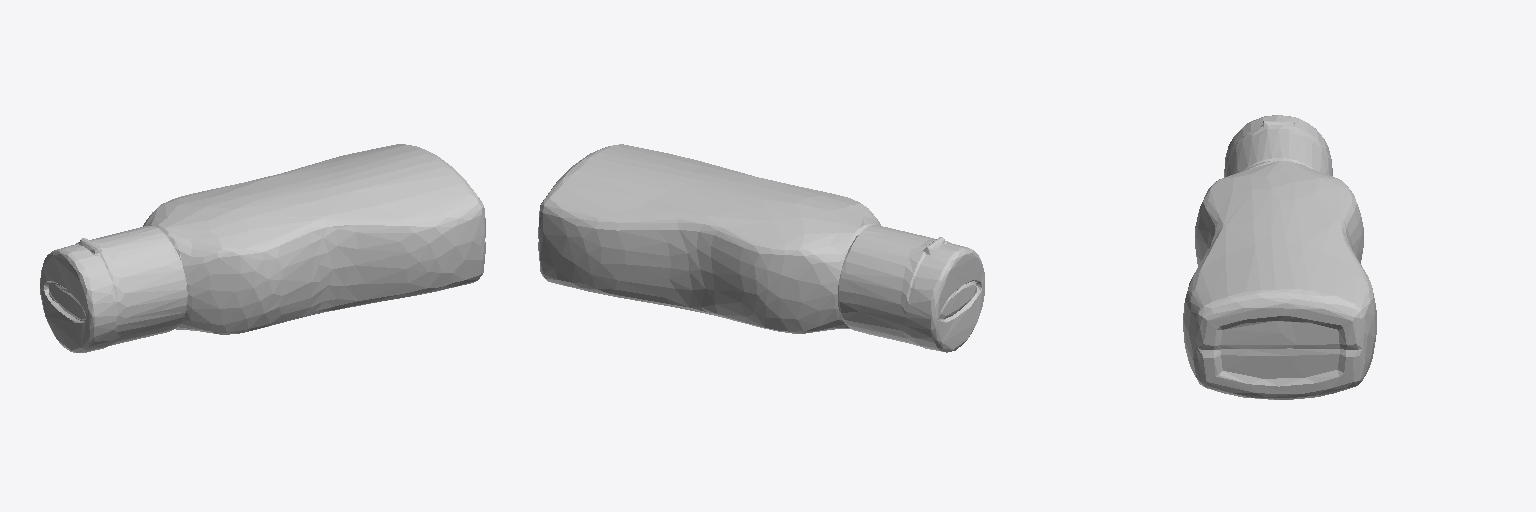
Rendered from Mayo.obj.
3 renders of one model, left to right at view 1: azimuth 30°, elevation 25°; view 2: azimuth 150°, elevation 25°; view 3: azimuth 270°, elevation 25°, orthographic.
Visible parts, largest first — view 1: textured.003; view 2: textured.003; view 3: textured.003.
Part boxes in pixels (left/top/right/bottom): textured.003: left=40, top=144, right=485, bottom=352; textured.003: left=538, top=144, right=984, bottom=352; textured.003: left=1183, top=115, right=1376, bottom=399.
Size of the model in its own units: 0.1479 by 0.041 by 0.0646.